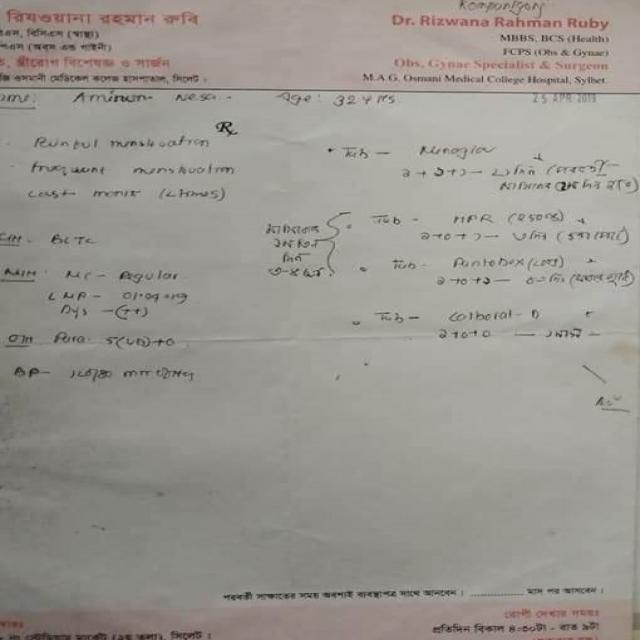Calboral D: (442, 304, 546, 330)
HPR-DS: (441, 207, 501, 229)
Menogia: (412, 137, 502, 163)
Pantonix: (444, 253, 532, 275)
